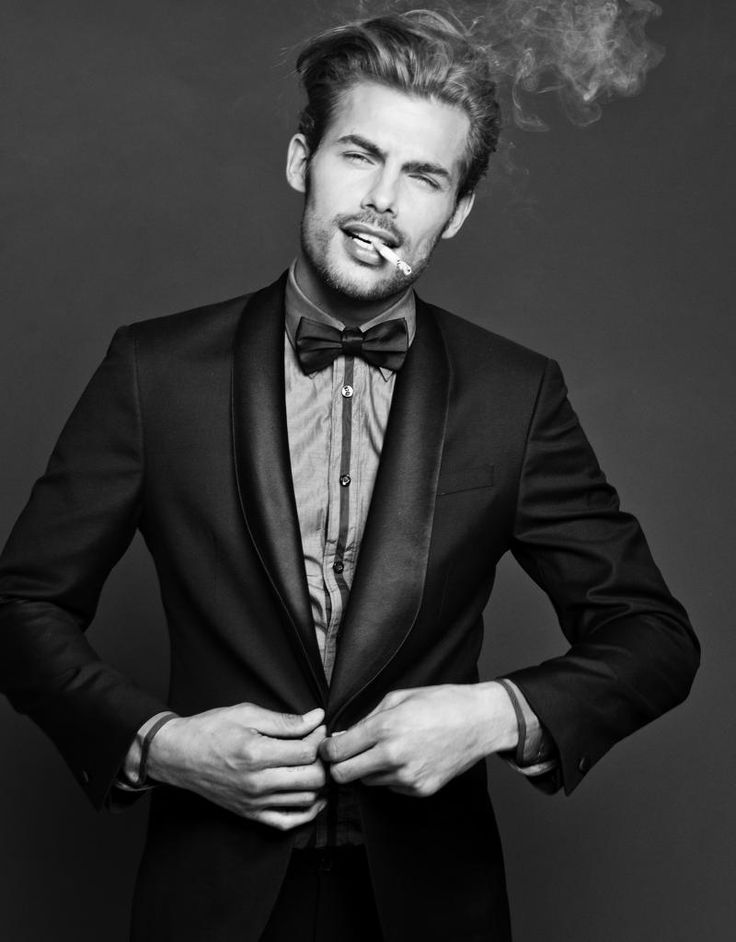cigarette: (368, 235, 418, 285)
